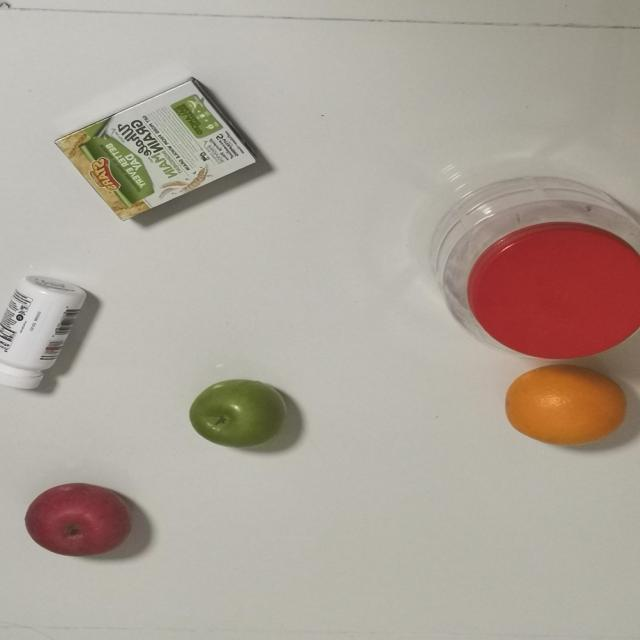apple: (24, 481, 134, 564), (184, 376, 293, 458)
orange: (503, 364, 627, 446)
